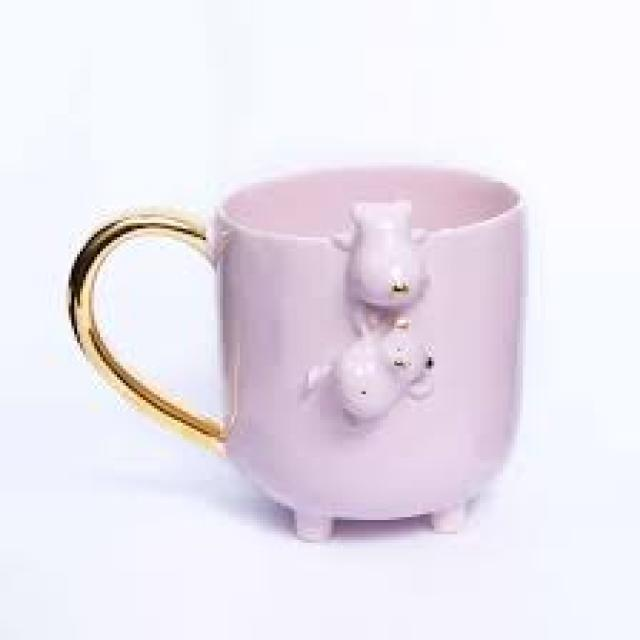taza: (72, 162, 529, 544)
